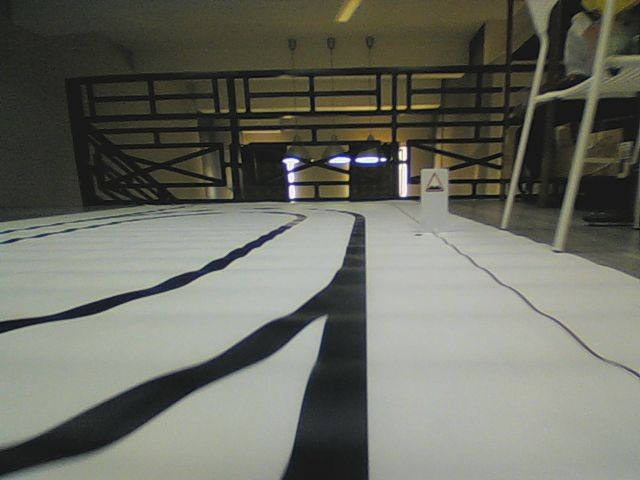Nerov: (424, 171, 445, 193)
